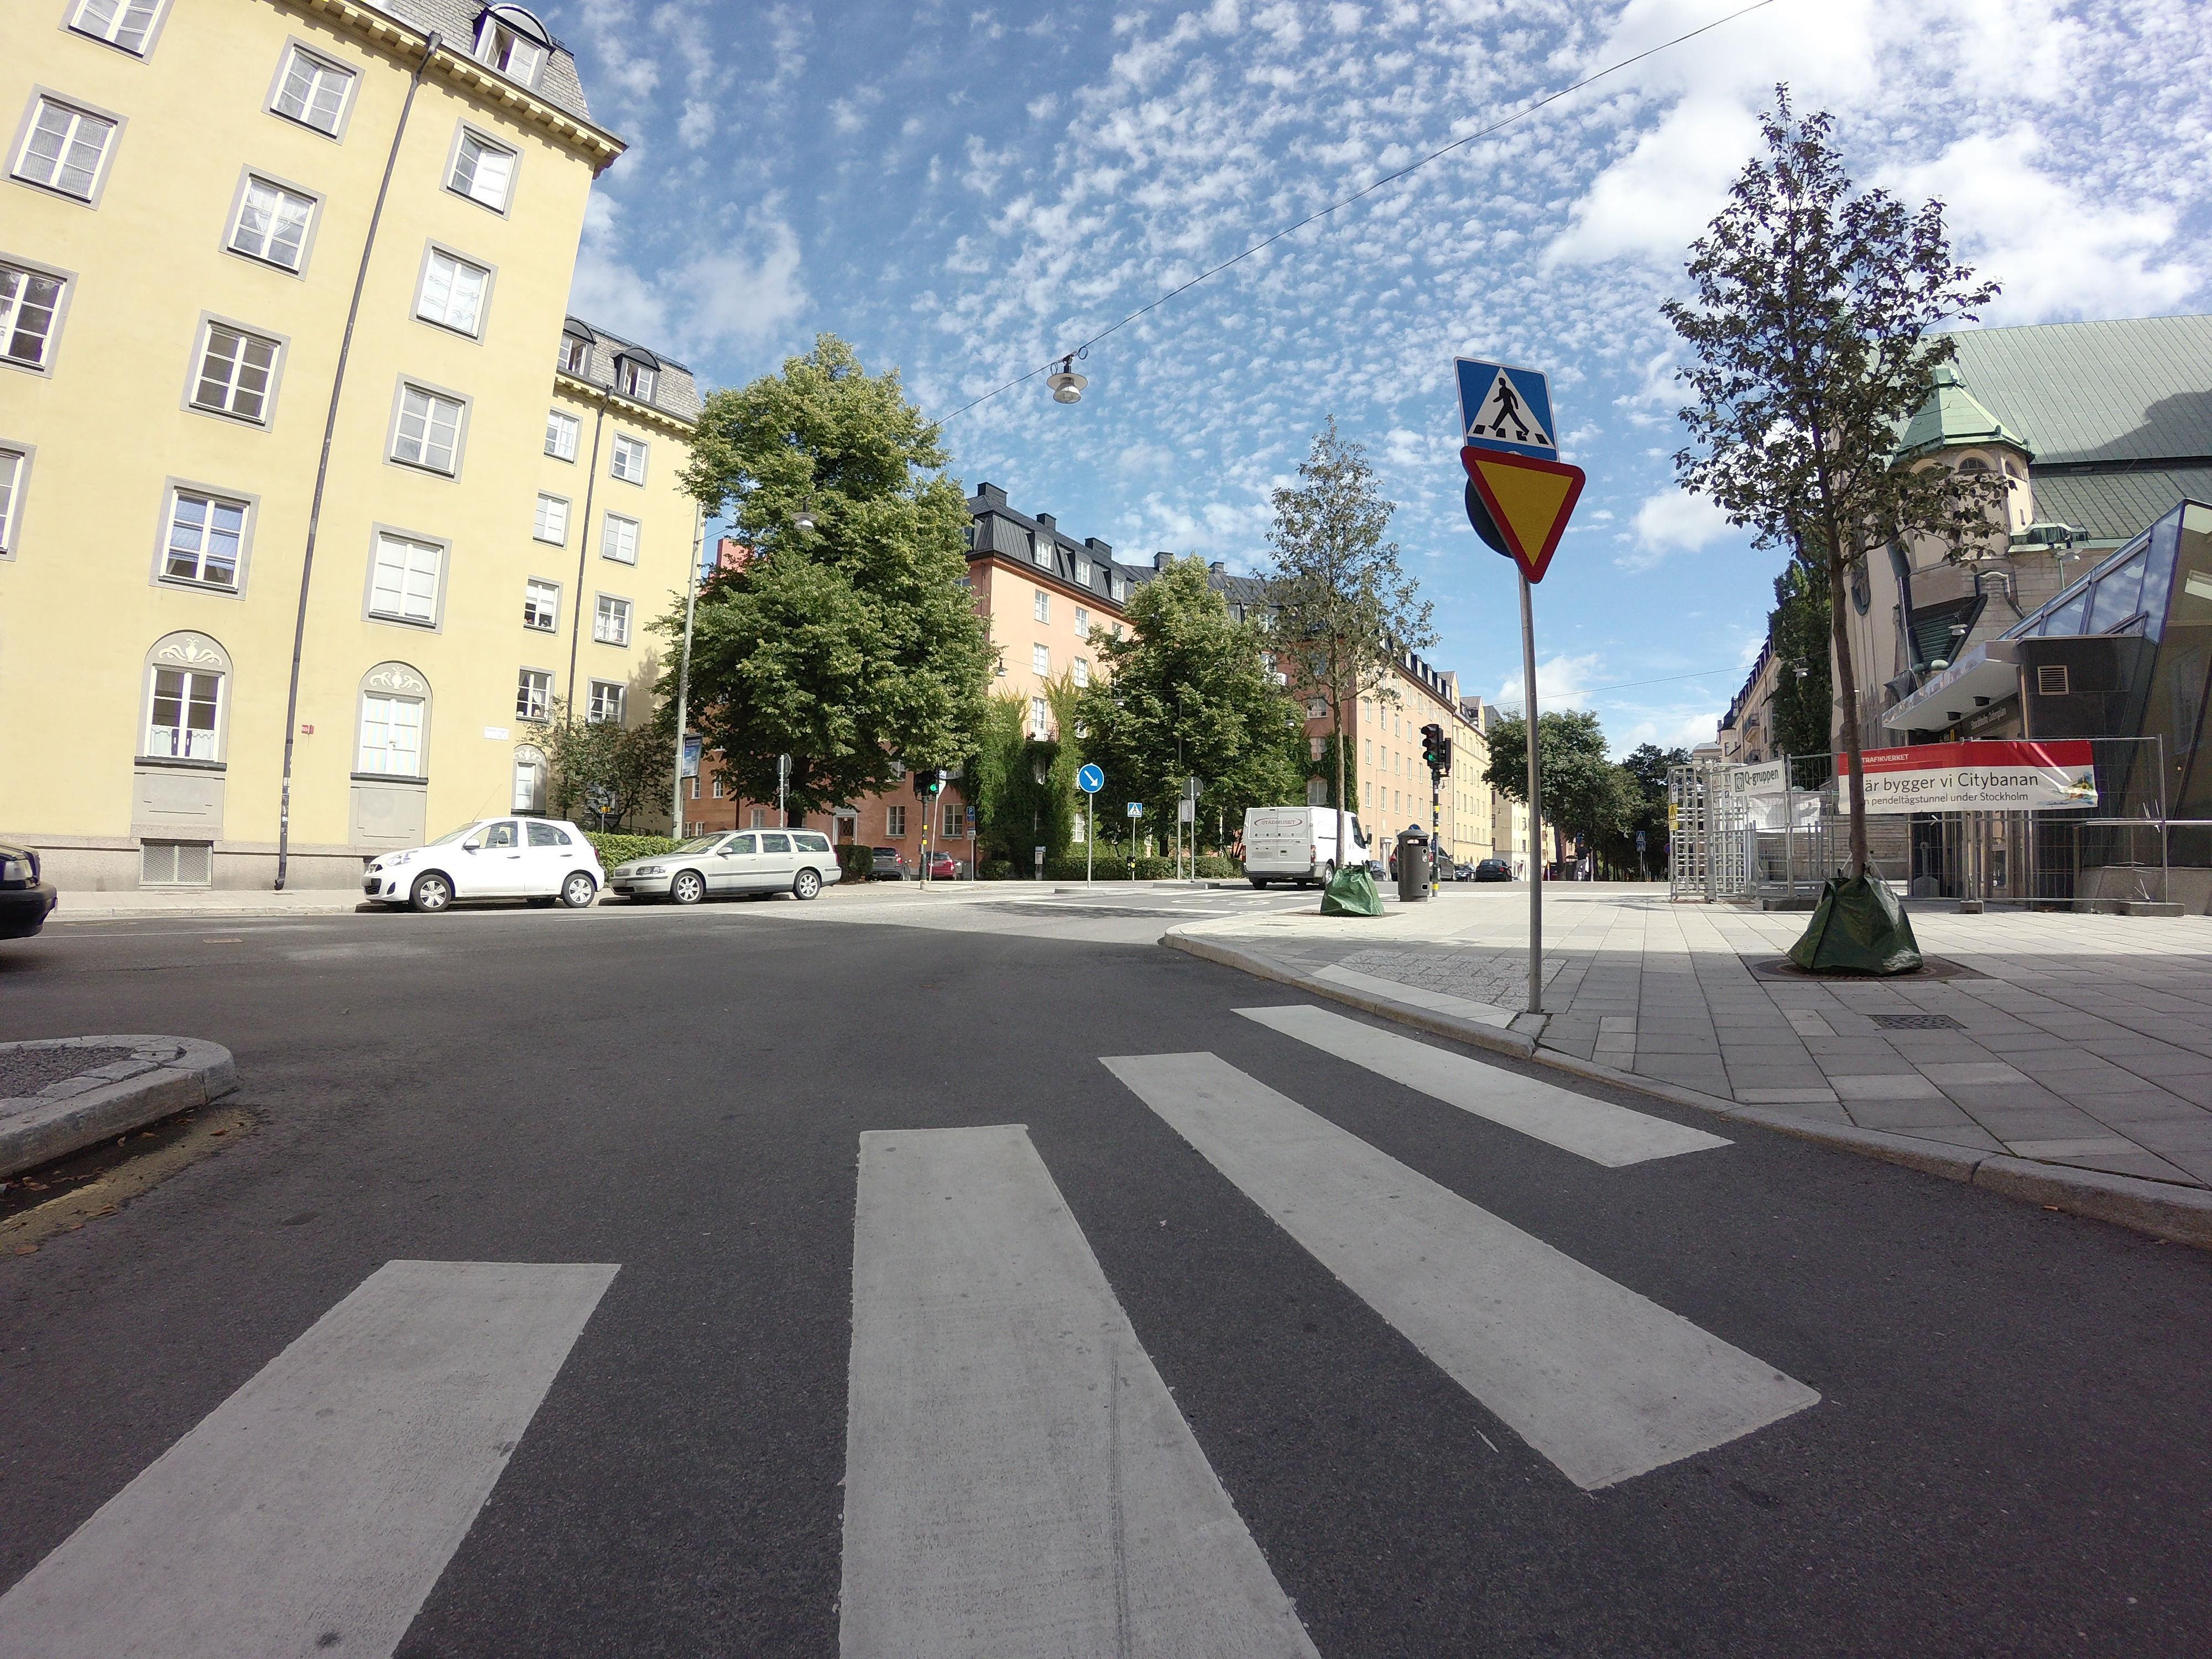vinyl banner: (1822, 727, 2128, 828), (1712, 749, 1789, 793)
